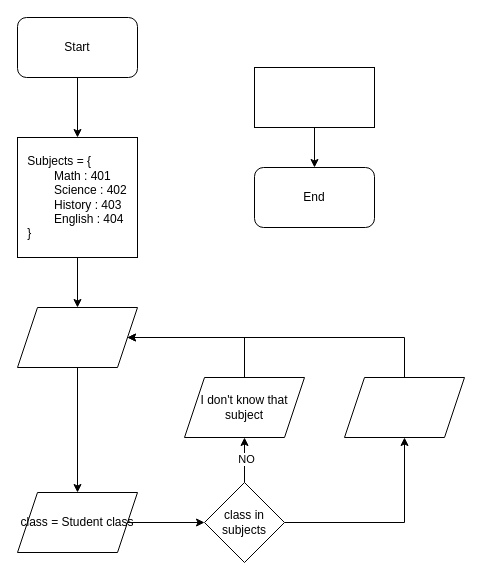
This 482x580 diagram has some shape labels left out. Each missing label, with the centre of its shape:
Hi {name}, go to room subjects[class]: [404,407]
KeyboardInterrupt: [314,97]
name = Student name: [77,337]
